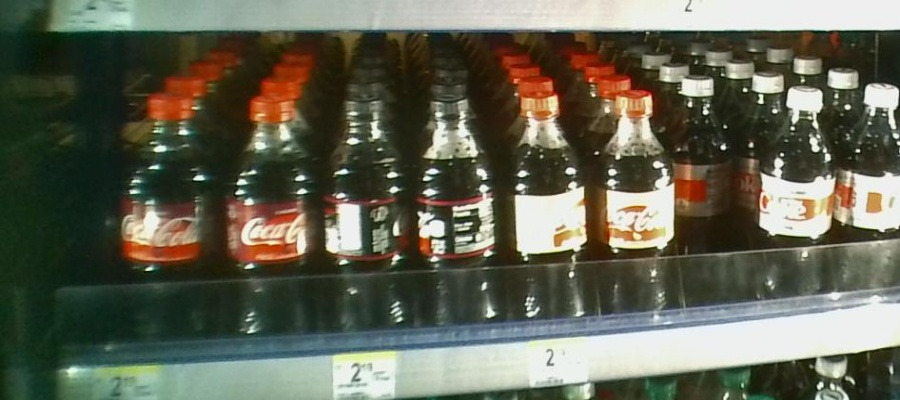bottle: (224, 93, 318, 358), (120, 94, 214, 355), (320, 94, 413, 343), (500, 98, 585, 343), (419, 94, 499, 349), (593, 92, 677, 332), (759, 84, 834, 316), (673, 80, 731, 315), (843, 83, 896, 314)
